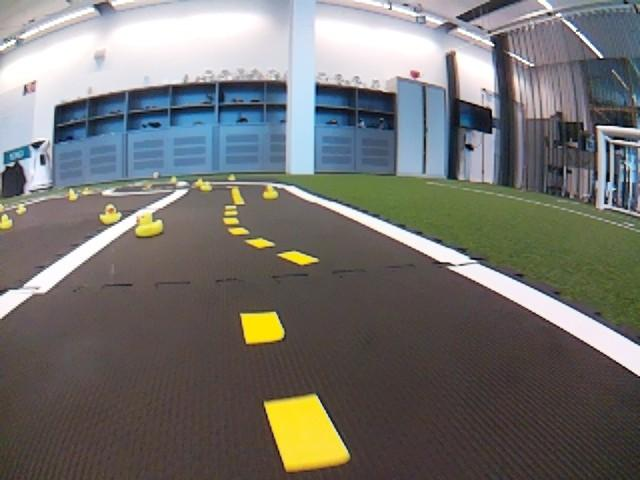Duckies: (135, 213, 163, 237), (99, 206, 123, 224), (262, 185, 279, 199), (1, 213, 12, 229), (200, 183, 212, 192), (69, 189, 78, 201), (16, 205, 27, 213), (194, 180, 205, 187), (82, 188, 91, 195), (144, 184, 152, 189), (229, 175, 236, 180), (169, 178, 176, 183), (0, 203, 3, 211)
